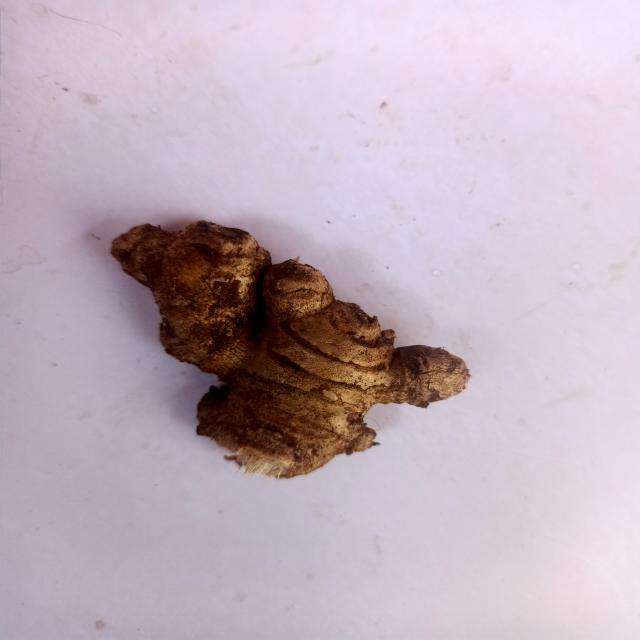Ginger: (78, 208, 488, 491)
